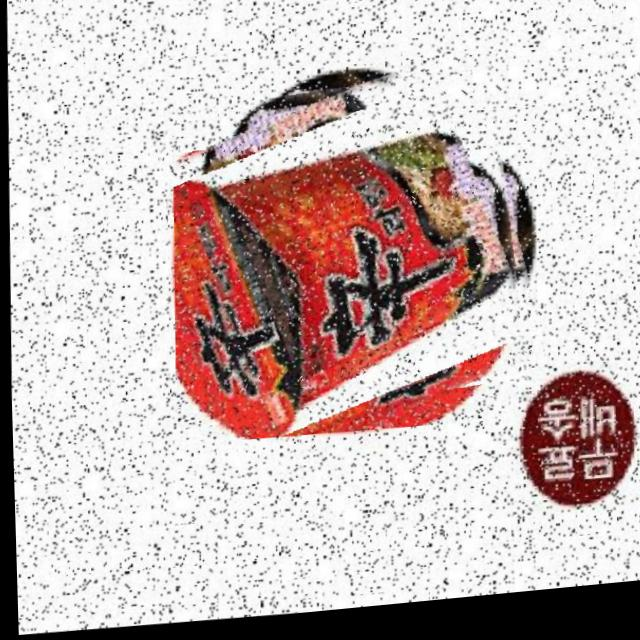Miscellaneous: (164, 65, 534, 453)
